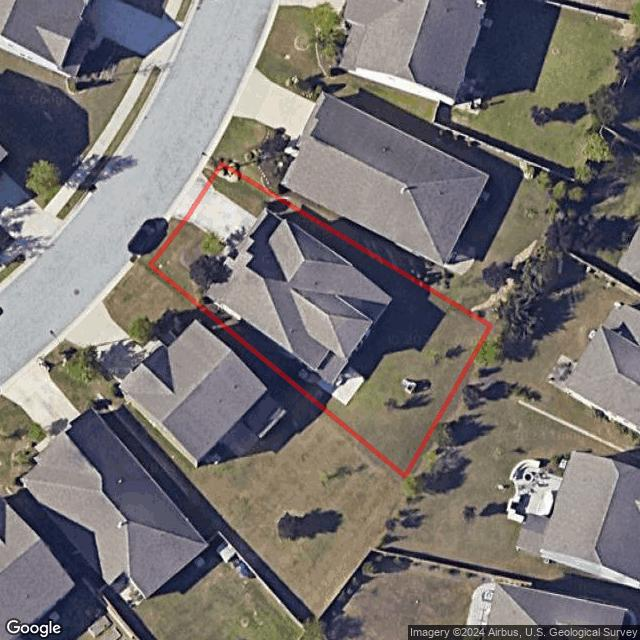Driveway: (184, 182, 260, 255)
Extra-Driveway: (172, 170, 210, 221)
Extra-Lawn: (139, 218, 185, 266), (202, 158, 222, 182)
House: (201, 206, 400, 385)
Lawn: (149, 165, 492, 477)
Other: (180, 232, 230, 300), (299, 364, 368, 408), (402, 379, 417, 394)
